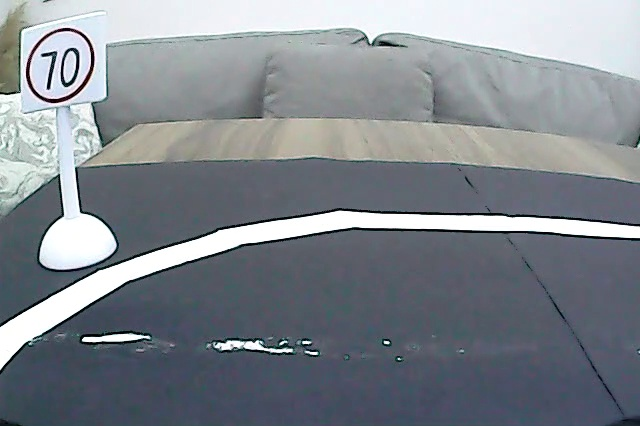speed limit 70: (24, 25, 99, 105)
